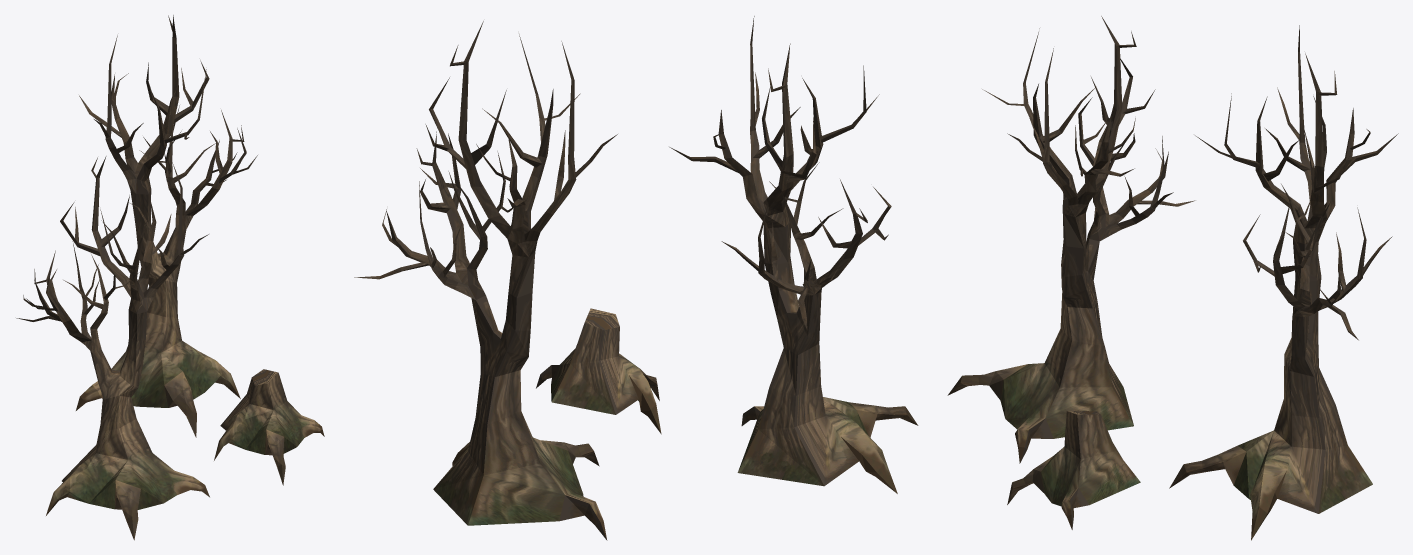
File: plants_tall_tree_trunks12.fbx
3 renders of one model, left to right at view 1: azimuth 30°, elevation 25°; view 2: azimuth 150°, elevation 25°; view 3: azimuth 270°, elevation 25°, orthographic. The views are drawn at different scales.
Parts seen in each view (by area): view 1: obj0.149; view 2: obj0.149; view 3: obj0.149.
Boxes of the visible parts, x1=… form: obj0.149: x1=16, y1=15, x2=324, y2=540; obj0.149: x1=354, y1=16, x2=918, y2=540; obj0.149: x1=947, y1=16, x2=1398, y2=540.
Bounding box in the file's own units: 7.91 × 9.36 × 8.28.
